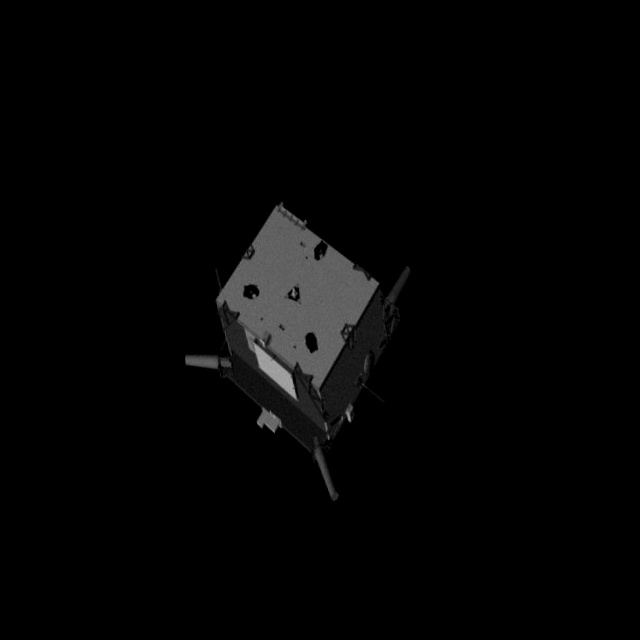satellite: (185, 189, 456, 513)
